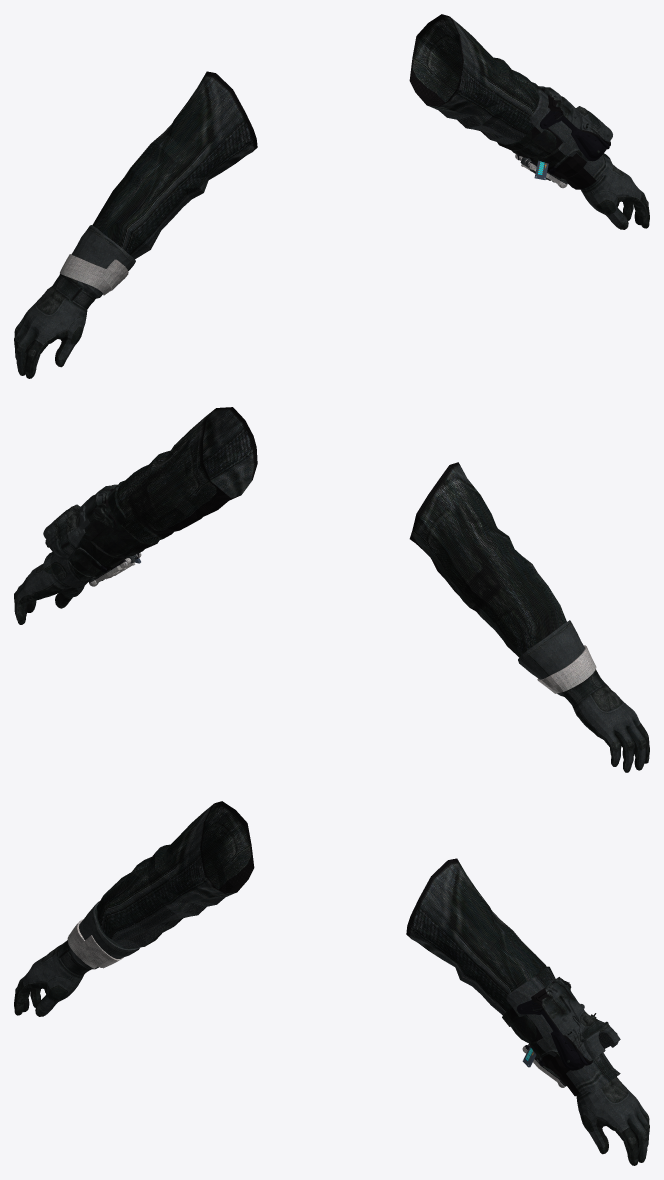
File: tmd_glove_diegetic_v2.obj
3 views of the same model, one above another, from view 1: azimuth 30°, elevation 25°; view 2: azimuth 150°, elevation 25°; view 3: azimuth 330°, elevation 25° (orthographic).
Bounding box in the file's own units: 121 × 47.1 × 15.84.
